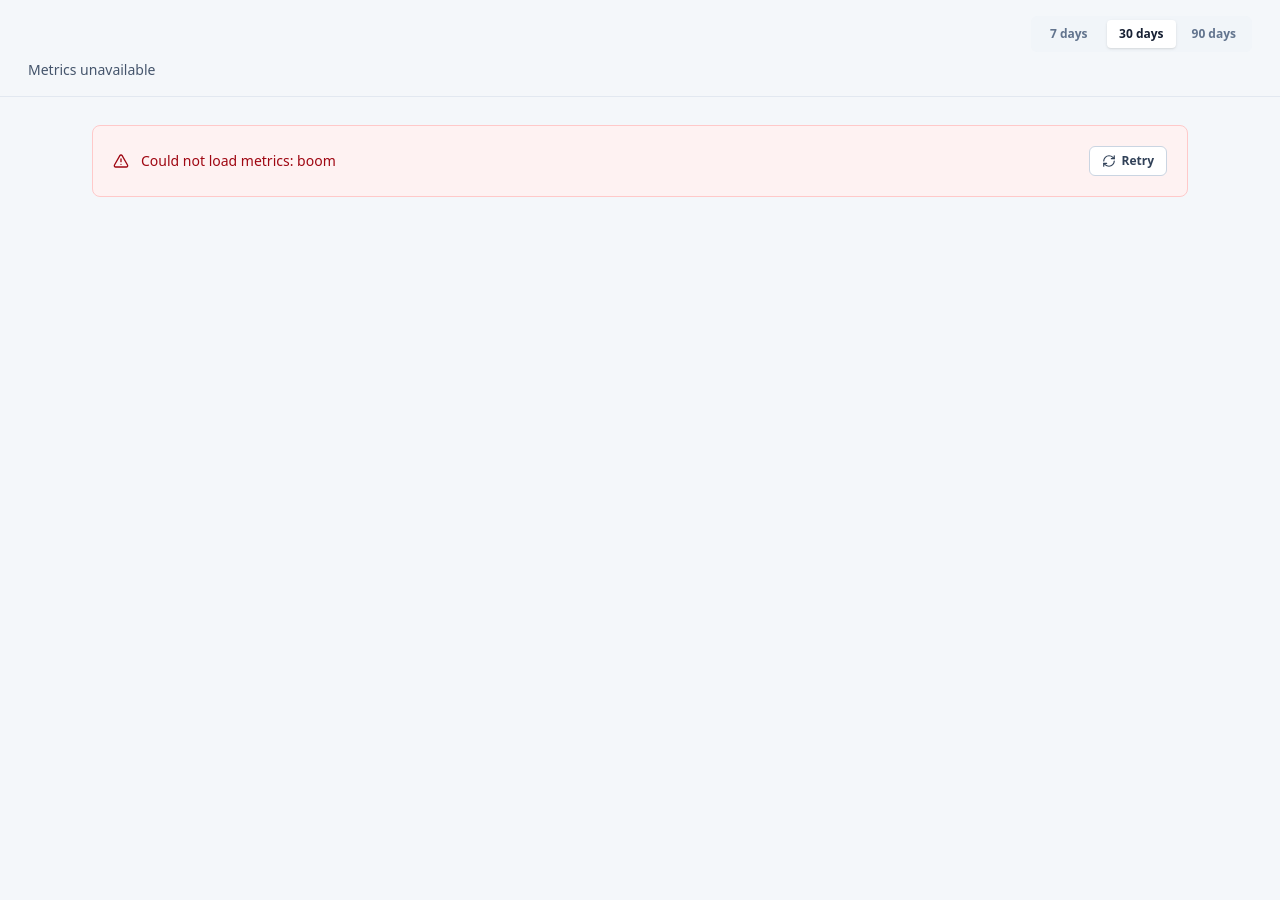
Scenario: DashboardView › shows an error with retry and reloads on click
Expected: the message "Could not load metrics: boom Retry" is shown, [92,125,1188,197]
Click the button "Retry": (1128, 161) [1088,146,1167,176]
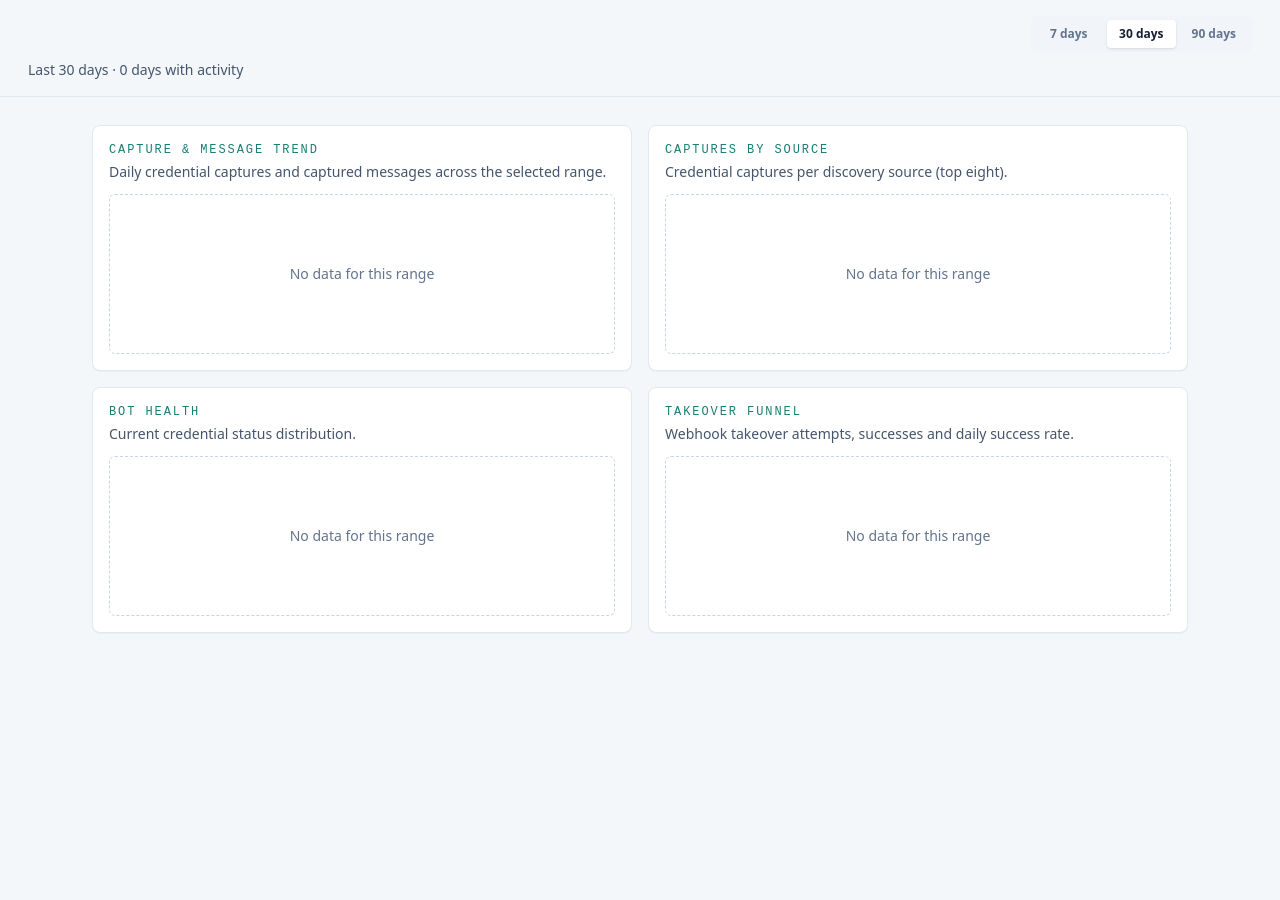
Expected: the message "Could not load metrics: boom Retry" is gone
Expected: the text "No data for this range" is shown 4 times, [109,194,615,354]; [665,194,1171,354]; [109,456,615,616]; [665,456,1171,616]
